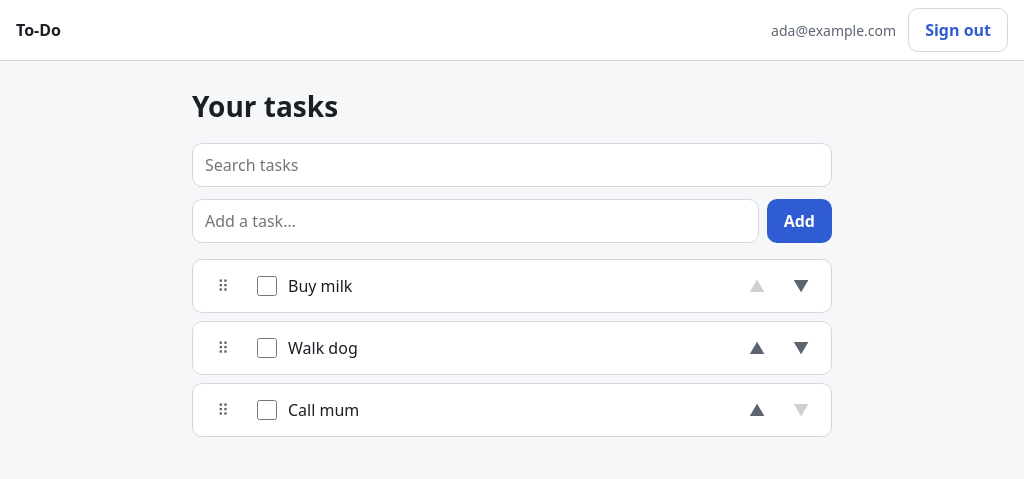
Test: TaskListPage › refuses to add a blank task
Click the button "Add" at (799, 221), box [767,199,832,243]
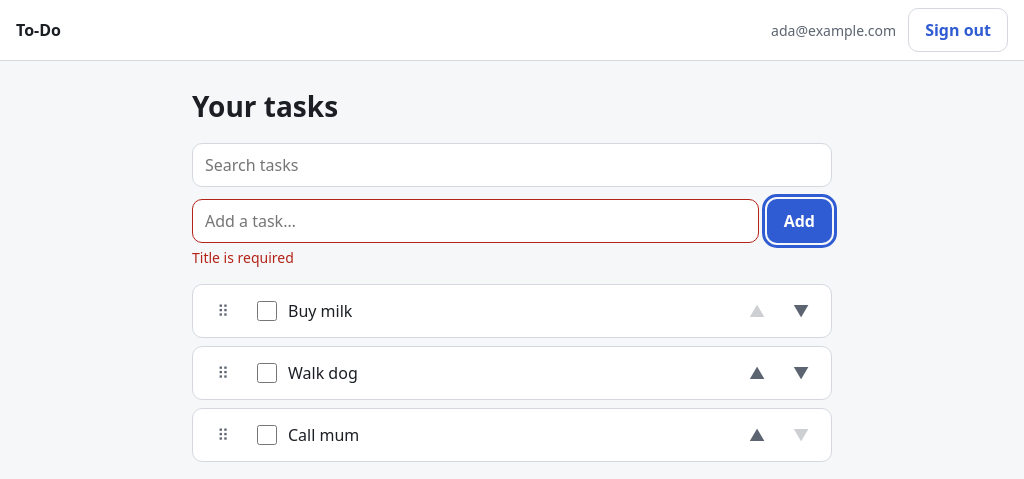
Expected: the text "Title is required" is shown, [192,248,294,267]
